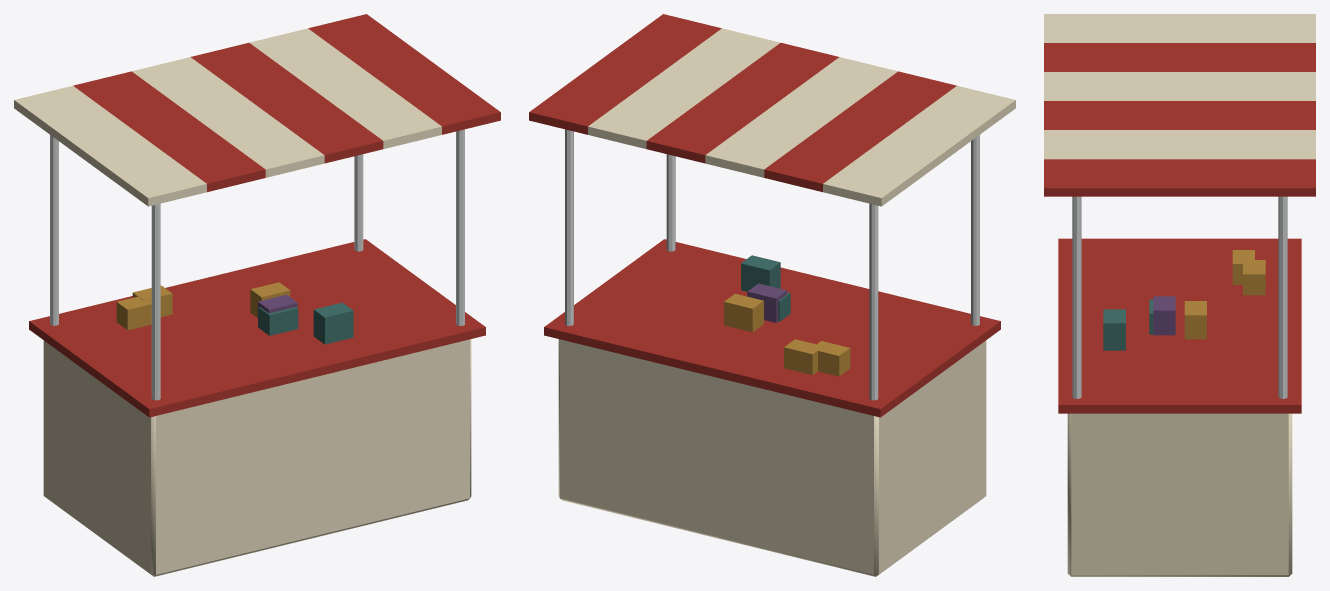
The model's file is mall_kiosk.glb.
3 views of the same model, side by side, from view 1: azimuth 30°, elevation 25°; view 2: azimuth 150°, elevation 25°; view 3: azimuth 270°, elevation 25° (orthographic).
Parts seen in each view (by area): view 1: MallKiosk; view 2: MallKiosk; view 3: MallKiosk.
Part boxes in pixels (<box>): MallKiosk: <box>14,14,500,576</box>; MallKiosk: <box>529,14,1015,576</box>; MallKiosk: <box>1044,14,1315,576</box>.
Size of the model in its own units: 2.2 by 2.35 by 1.45.
